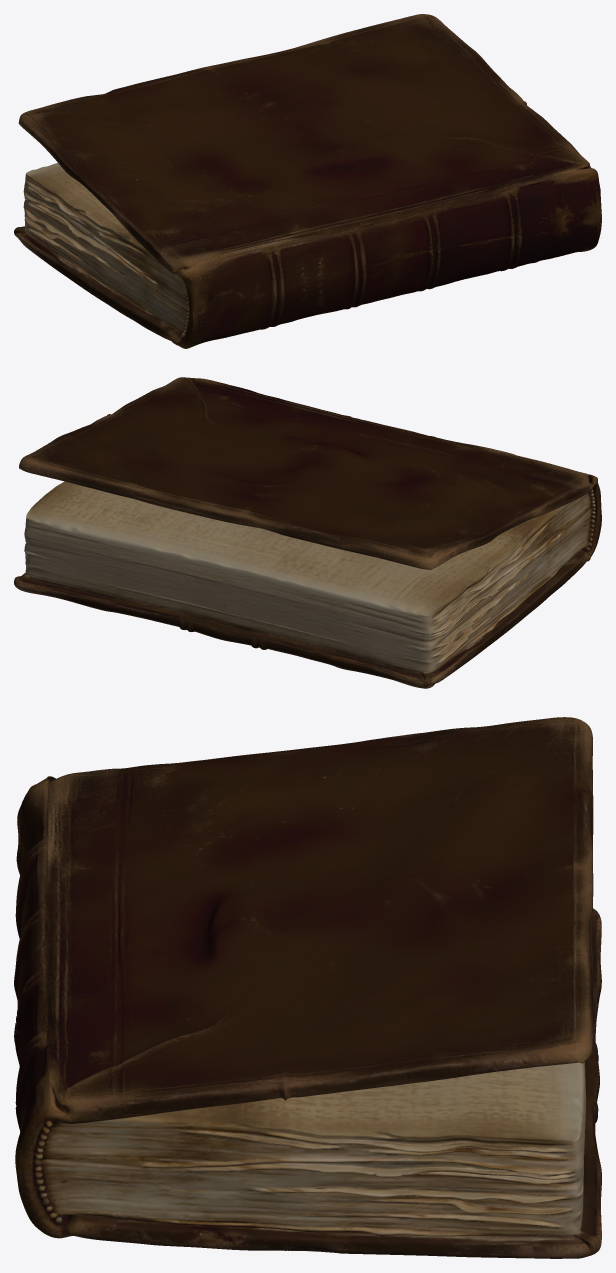
File: mother_diary.glb
The picture shows the model from 3 angles, top to bottom: view 1: azimuth 30°, elevation 25°; view 2: azimuth 150°, elevation 25°; view 3: azimuth 270°, elevation 25°; orthographic projection. The views are drawn at different scales.
Visible parts, largest first — view 1: mesh; view 2: mesh; view 3: mesh.
Part boxes in pixels (x1,y1,x2,y2): mesh: [14, 14, 601, 348]; mesh: [14, 377, 601, 688]; mesh: [14, 717, 601, 1258].
Bounding box in the file's own units: 0.28 × 0.0839 × 0.2055.
1 material, 1 textured.
